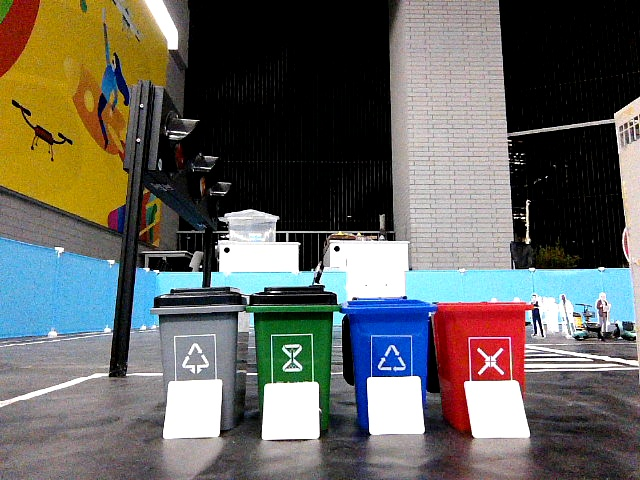blue_open: (350, 296, 425, 373)
green_close: (254, 286, 331, 378)
grey_close: (158, 288, 239, 378)
red_open: (441, 301, 520, 377)
